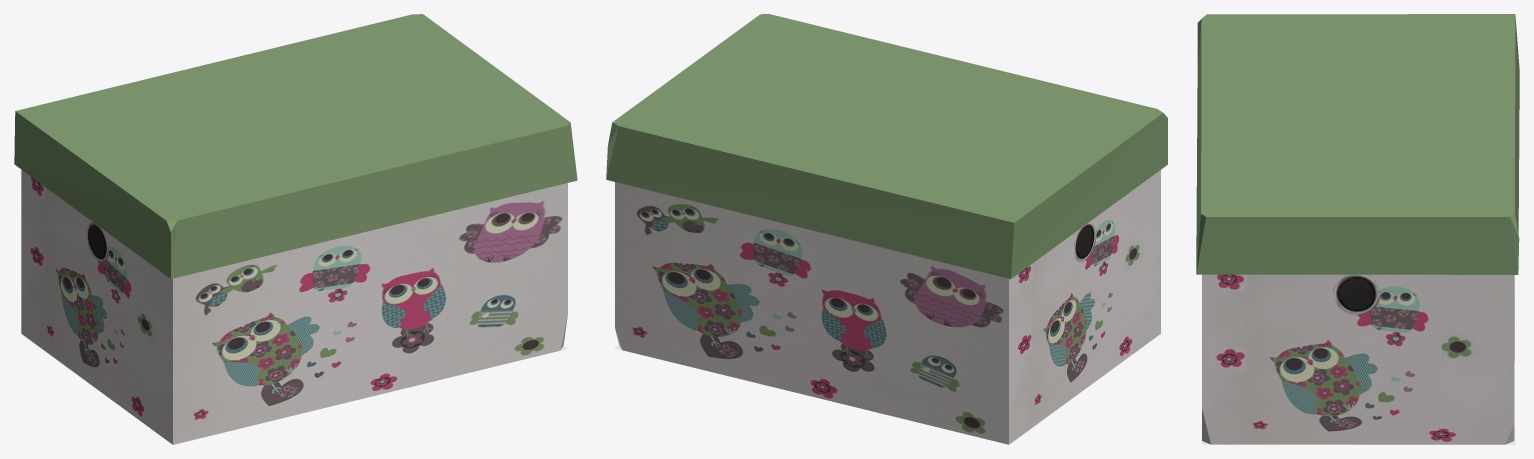
3 views of the same model, side by side, from view 1: azimuth 30°, elevation 25°; view 2: azimuth 150°, elevation 25°; view 3: azimuth 270°, elevation 25° (orthographic). The views are drawn at different scales.
Parts seen in each view (by area): view 1: Box; view 2: Box; view 3: Box.
Boxes of the visible parts, x1,y1,x2,y2 form: Box: [14, 14, 577, 444]; Box: [606, 14, 1167, 444]; Box: [1196, 14, 1519, 444].
Size of the model in its own units: 41.6 by 21.85 by 27.86.
Materials: 1 (1 with a texture image).
